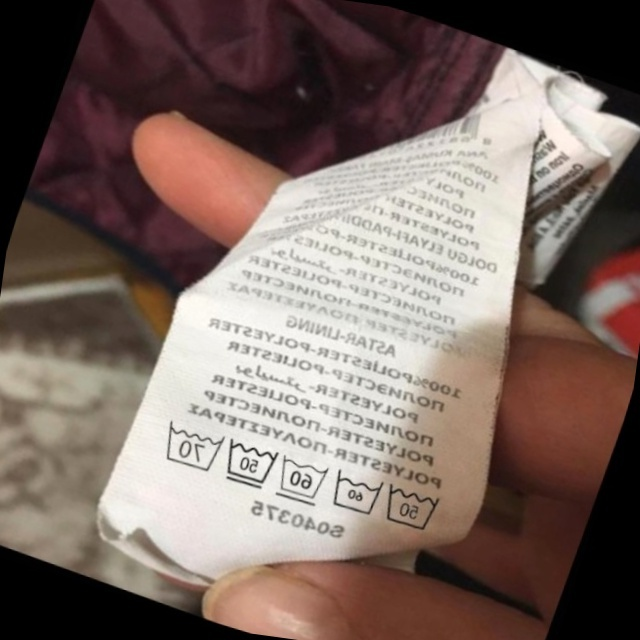50C: (371, 471, 451, 543), (212, 429, 285, 498)
60C: (265, 445, 335, 512), (320, 460, 390, 525)
70C: (149, 412, 229, 479)
